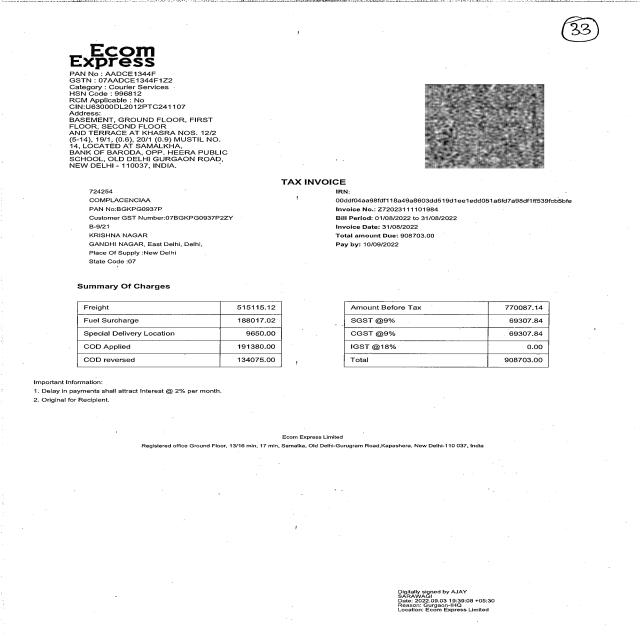page-number: (413, 4, 640, 62)
